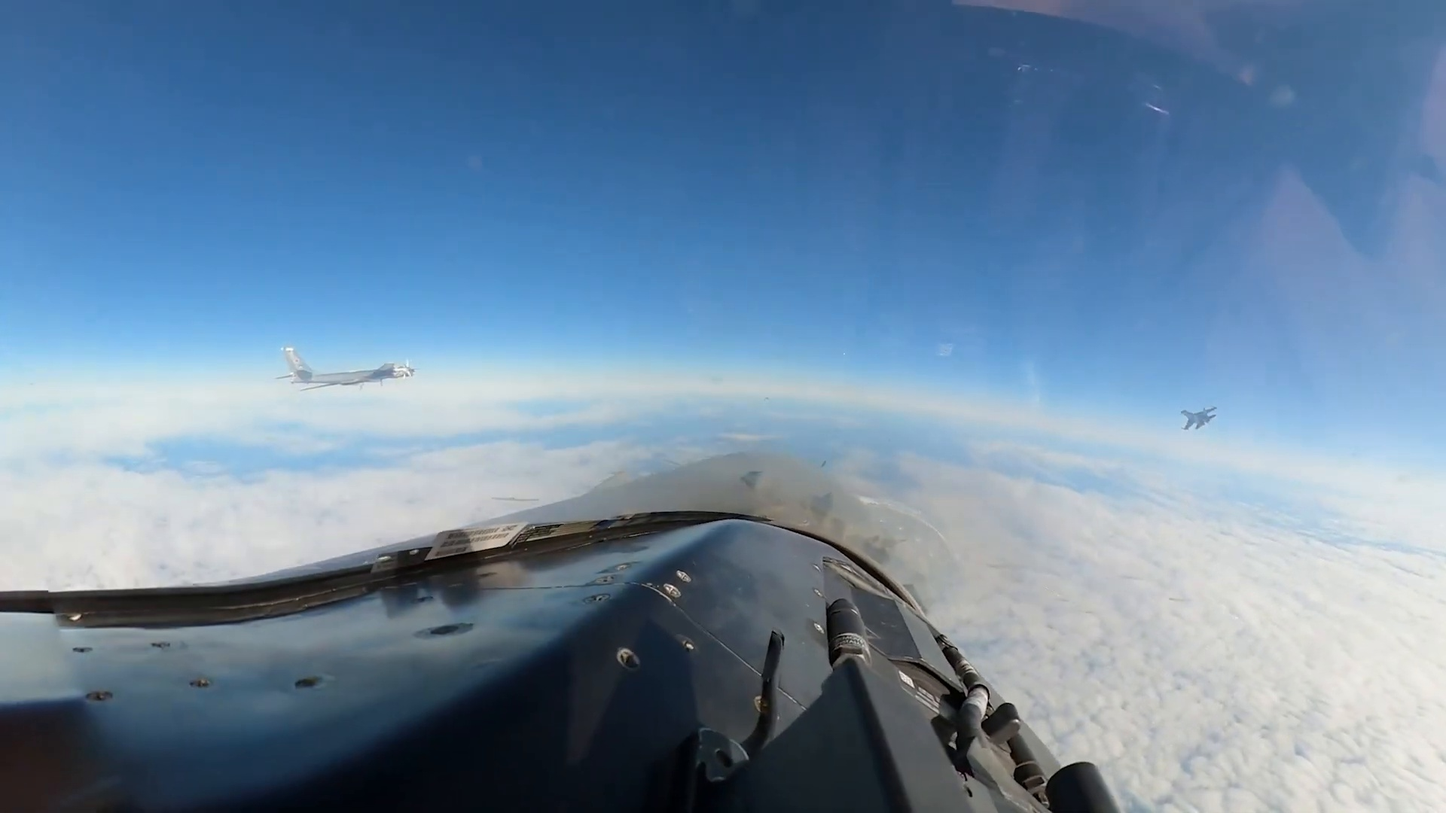Su35: (1178, 405, 1217, 432)
